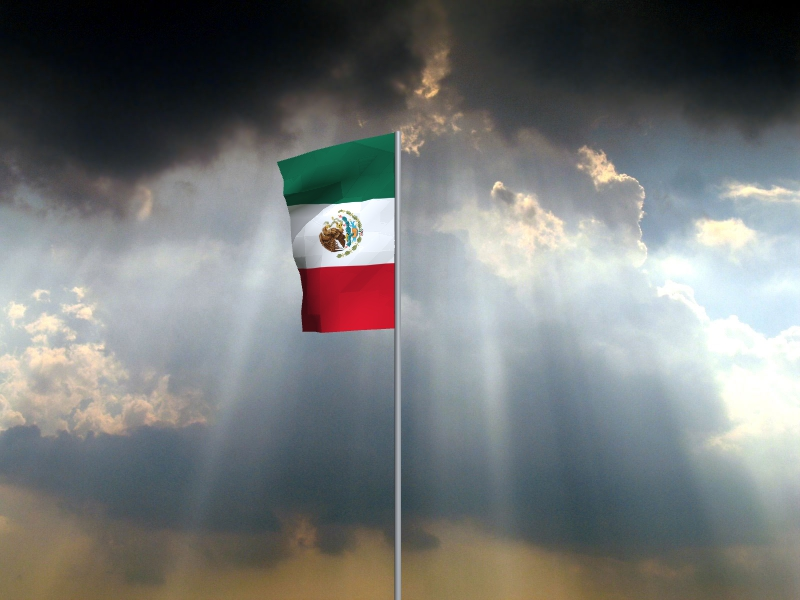mx: (276, 133, 395, 334)
